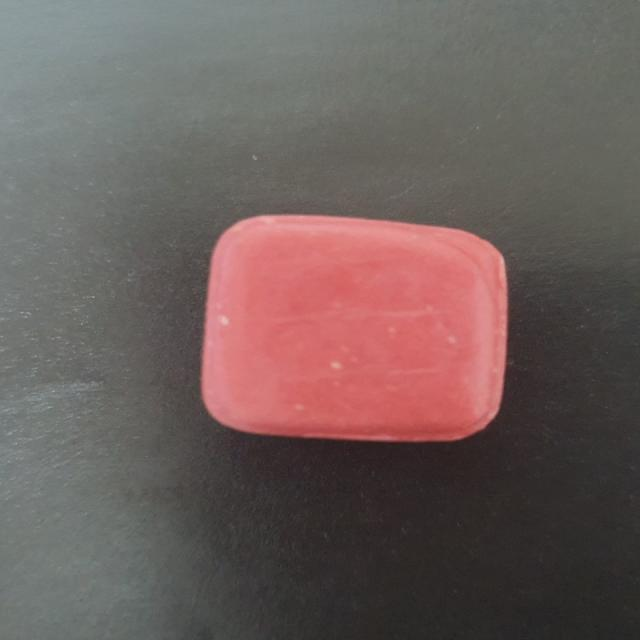pill: (211, 220, 504, 456)
